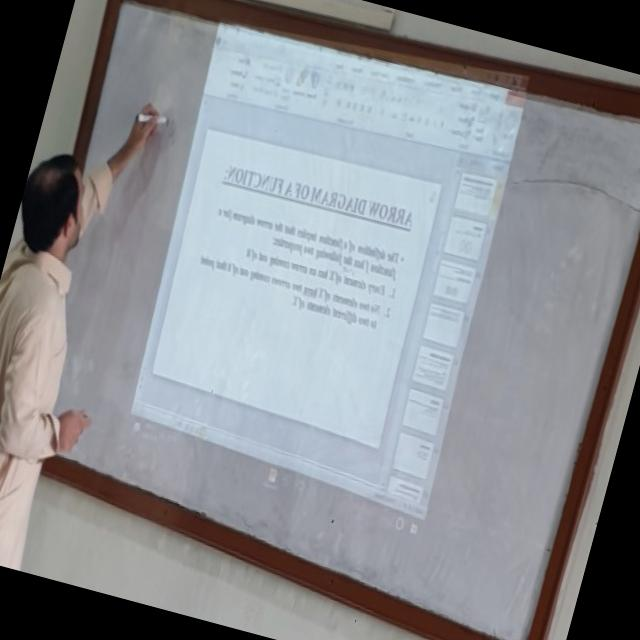Instructor: (0, 121, 130, 546)
Slide: (121, 11, 531, 545)
White-board: (6, 0, 640, 640)
